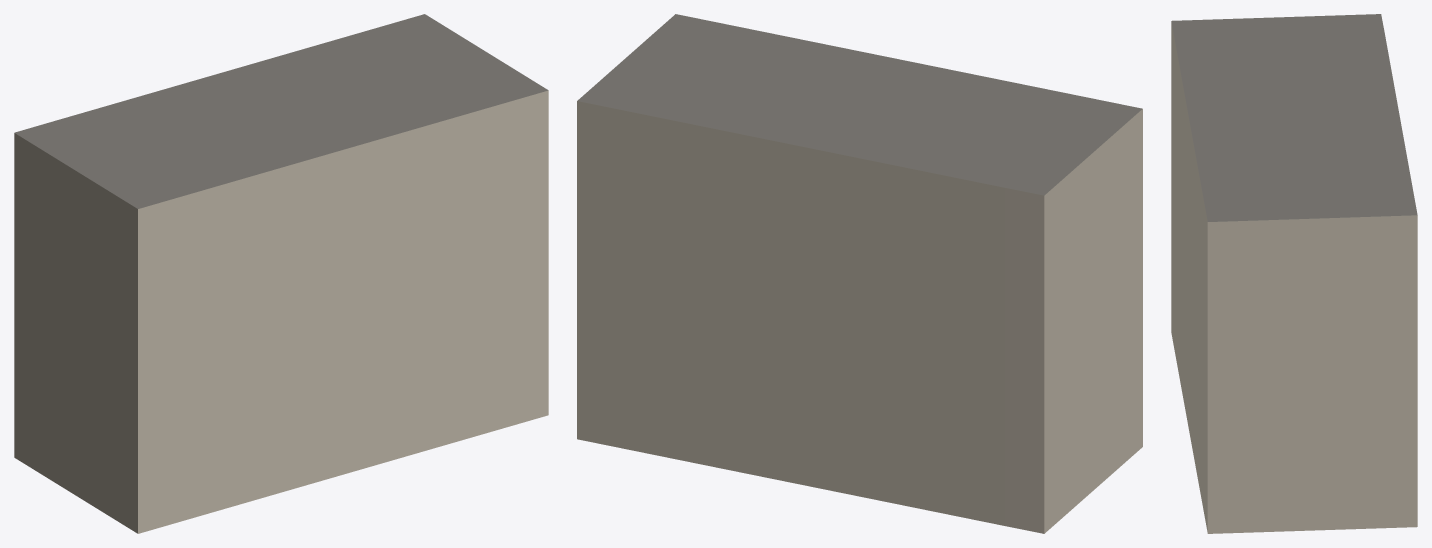
3 views of the same model, side by side, from view 1: azimuth 30°, elevation 25°; view 2: azimuth 150°, elevation 25°; view 3: azimuth 270°, elevation 25° (orthographic). The views are drawn at different scales.
Visible parts, largest first — view 1: HP-w858824316; view 2: HP-w858824316; view 3: HP-w858824316.
Part boxes in pixels (left/top/right/bottom): HP-w858824316: left=14, top=14, right=548, bottom=533; HP-w858824316: left=577, top=14, right=1142, bottom=533; HP-w858824316: left=1171, top=14, right=1417, bottom=533.
Bounding box in the file's own units: 25.77 × 18 × 12.88.
